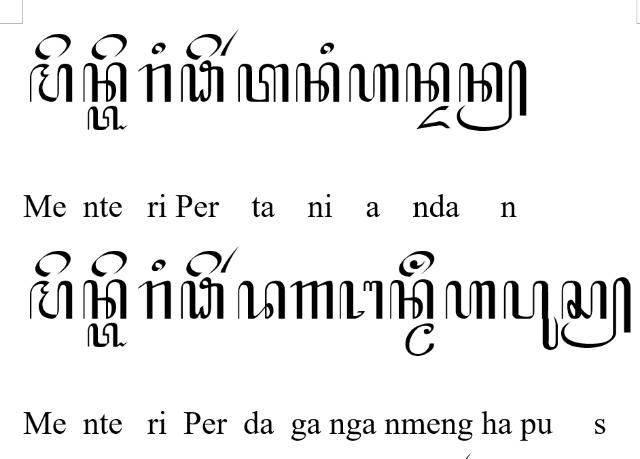-n: (456, 59, 526, 131)
-s: (561, 277, 631, 349)
P: (180, 59, 224, 103), (180, 276, 224, 320)
_d: (417, 105, 451, 129)
_m: (405, 324, 435, 356)
_r1: (219, 28, 241, 56), (220, 246, 240, 274)
_t: (86, 322, 128, 348), (88, 105, 128, 131)
d: (237, 281, 286, 321)
e: (34, 250, 72, 278), (185, 250, 222, 278), (91, 250, 127, 278), (35, 34, 71, 60), (91, 34, 127, 60), (186, 34, 222, 60)
eng: (398, 249, 436, 278)
g: (290, 280, 334, 322)
h: (444, 280, 496, 320), (348, 63, 398, 102)
i: (151, 259, 167, 273), (320, 41, 334, 55), (152, 42, 166, 54)
m: (29, 63, 73, 103), (29, 280, 73, 320)
n: (295, 62, 341, 103), (82, 62, 128, 102), (82, 280, 128, 320), (406, 62, 450, 102), (390, 280, 434, 320)
nga: (338, 280, 384, 320)
pu: (503, 280, 559, 350)
r: (138, 63, 172, 103), (138, 280, 172, 320)
t: (237, 63, 290, 103)
